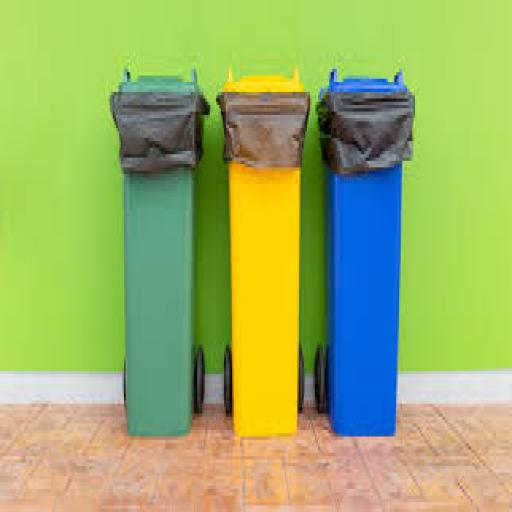poubelle_vide: (102, 60, 214, 444), (320, 60, 416, 456), (218, 62, 314, 439)
